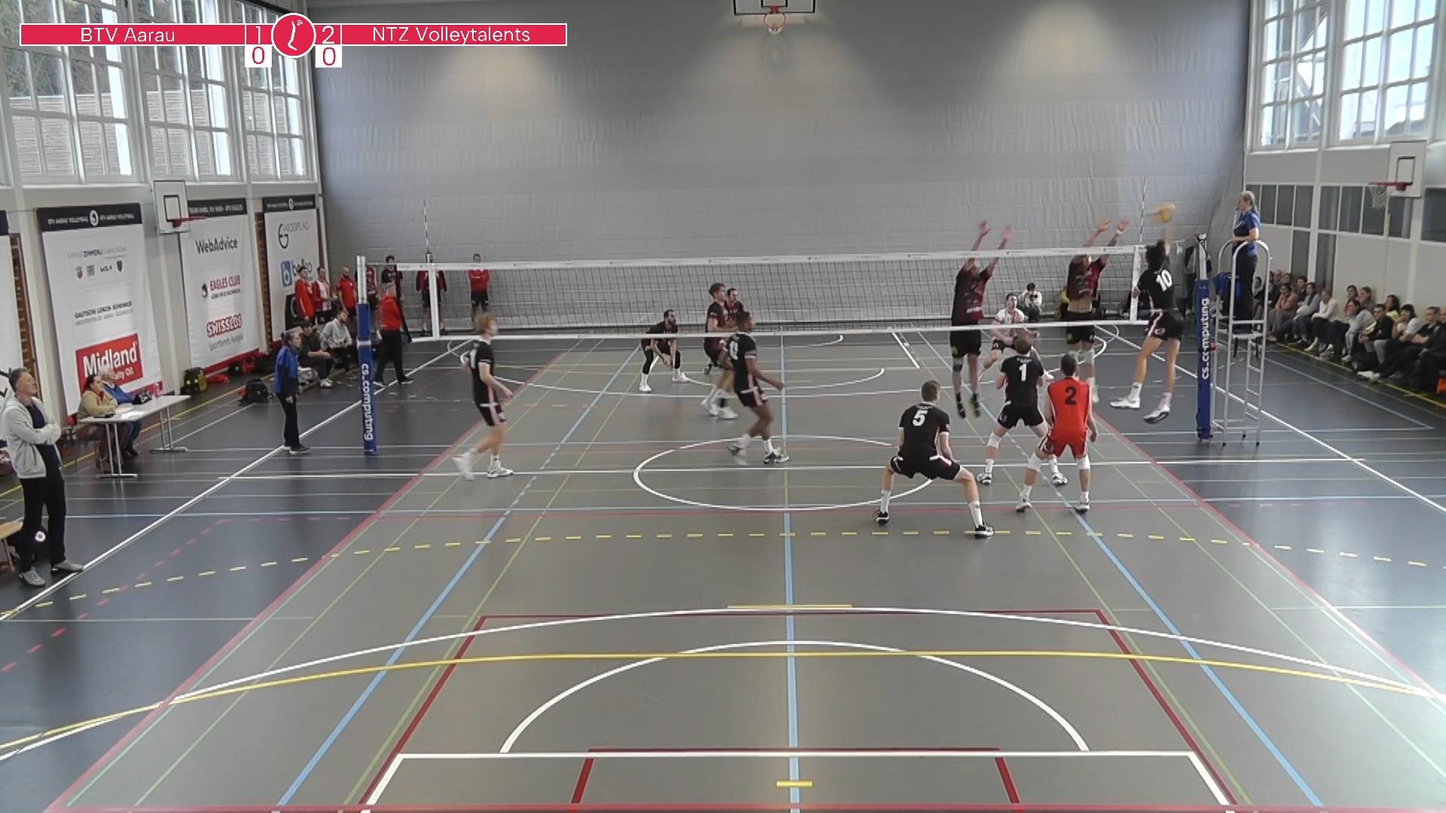attacco: (1113, 206, 1206, 420)
muro: (1052, 199, 1127, 414), (936, 202, 1009, 419)
